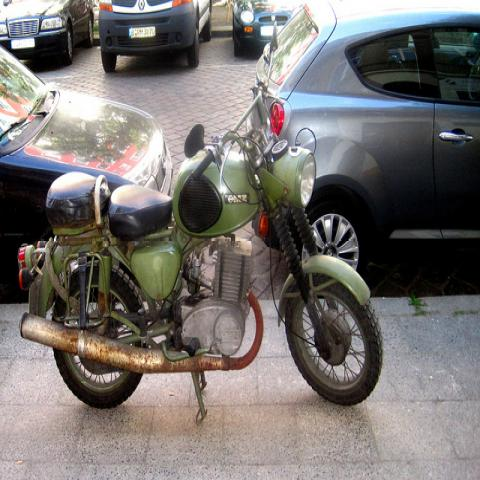car: (256, 1, 479, 283), (0, 44, 172, 303), (99, 0, 213, 73), (6, 0, 95, 72), (232, 1, 300, 57)
motorcycle: (20, 15, 386, 412)
truck: (98, 1, 213, 74)
